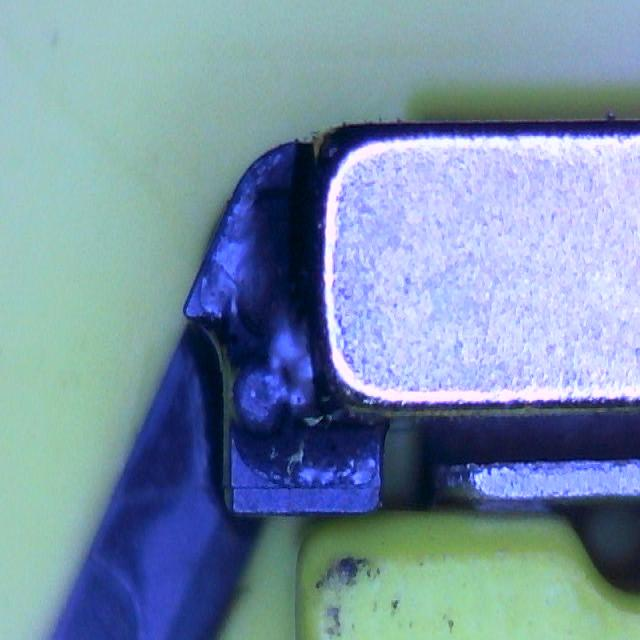over: (231, 169, 323, 415)
